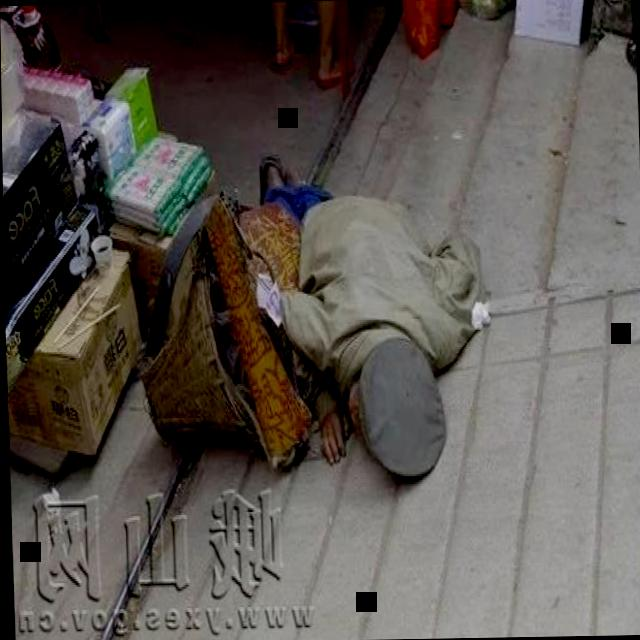Fall-Detected: (233, 118, 503, 504)
